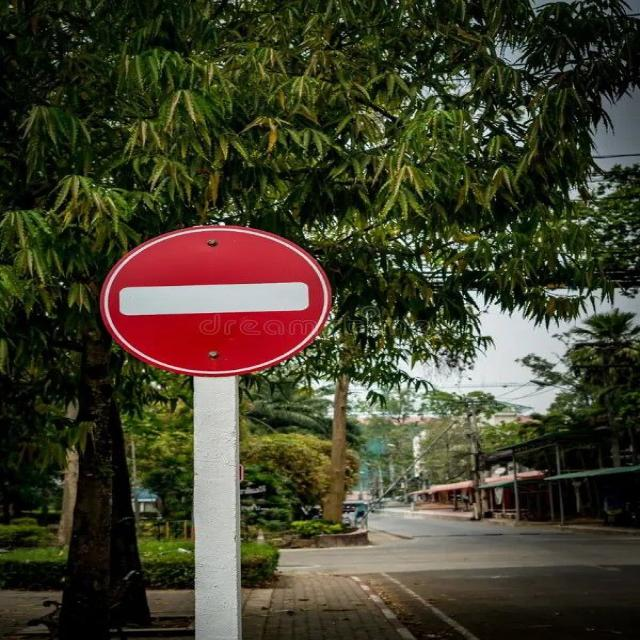No_entry: (97, 230, 336, 377)
